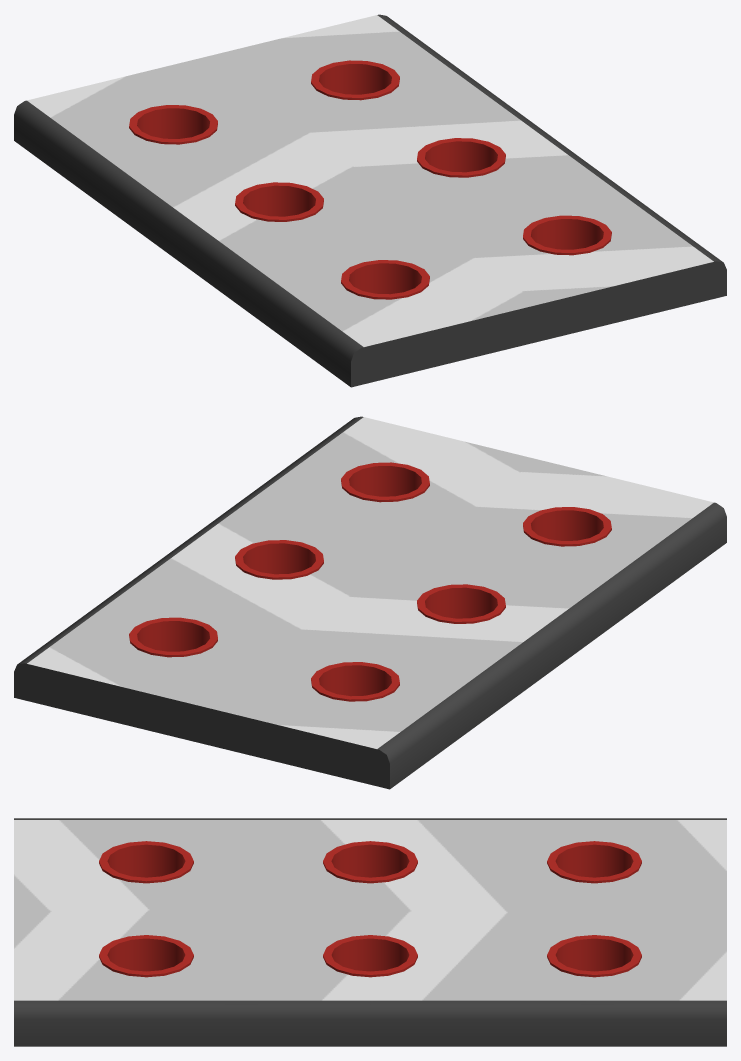
Rendered from platform.cylinder.fbx.
3 renders of one model, top to bottom at view 1: azimuth 30°, elevation 25°; view 2: azimuth 150°, elevation 25°; view 3: azimuth 270°, elevation 25°, orthographic. The views are drawn at different scales.
Visible parts, largest first — view 1: obstacle.cylinder; view 2: obstacle.cylinder; view 3: obstacle.cylinder.
Part boxes in pixels (x1,y1,x2,y2): obstacle.cylinder: [14, 14, 726, 387]; obstacle.cylinder: [14, 416, 726, 789]; obstacle.cylinder: [14, 818, 726, 1046].
Size of the model in its own units: 481 by 48.81 by 747.
